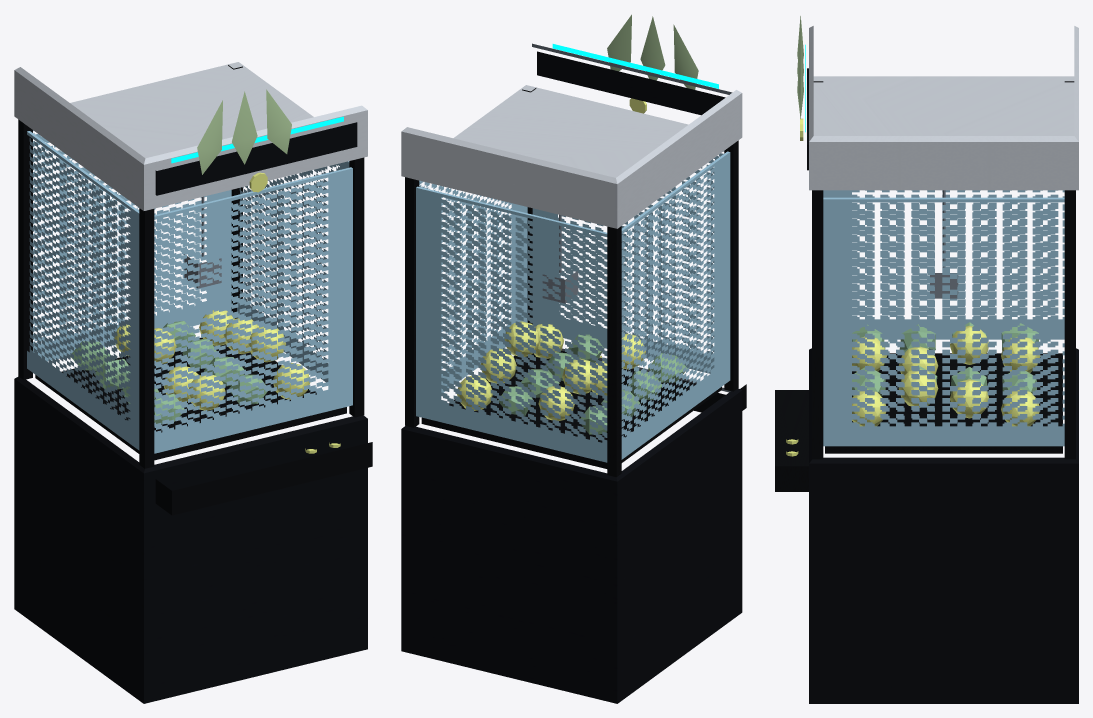
Rendered from tt_arc_claw.glb.
3 views of the same model, side by side, from view 1: azimuth 30°, elevation 25°; view 2: azimuth 150°, elevation 25°; view 3: azimuth 270°, elevation 25° (orthographic). The views are drawn at different scales.
Visible parts, largest first — view 1: Claw_Base, Claw_Pane_Scissor, Claw_Top, Claw_Posts, Claw_Controls, Screen_Plate, Claw_Prize_Floor, Prizes_Balls, Prizes_Leafy, Scr_Leaf, Scr_Art; view 2: Claw_Base, Claw_Pane_Scissor, Claw_Top, Claw_Posts, Claw_Prize_Floor, Screen_Plate, Prizes_Balls, Prizes_Leafy, Scr_Leaf, Scr_Art, Claw_Top_Reveal, Claw_Head; view 3: Claw_Base, Claw_Pane_Scissor, Claw_Top, Claw_Posts, Claw_Prize_Floor, Prizes_Balls, Claw_Controls, Prizes_Leafy, Scr_Leaf.
Part boxes in pixels (<box>): Claw_Base: <box>14,376,367,703</box>; Claw_Pane_Scissor: <box>27,130,352,453</box>; Claw_Top: <box>14,62,367,210</box>; Claw_Posts: <box>18,65,364,468</box>; Claw_Controls: <box>155,442,372,515</box>; Screen_Plate: <box>155,122,357,195</box>; Claw_Prize_Floor: <box>35,337,346,460</box>; Prizes_Balls: <box>114,310,310,410</box>; Prizes_Leafy: <box>71,321,267,424</box>; Scr_Leaf: <box>197,89,291,174</box>; Scr_Art: <box>171,116,343,163</box>; Claw_Base: <box>401,388,742,703</box>; Claw_Pane_Scissor: <box>416,151,730,462</box>; Claw_Top: <box>401,85,742,228</box>; Claw_Posts: <box>405,88,738,477</box>; Claw_Prize_Floor: <box>421,350,721,468</box>; Screen_Plate: <box>537,51,725,115</box>; Prizes_Balls: <box>457,321,645,420</box>; Prizes_Leafy: <box>498,334,687,434</box>; Scr_Leaf: <box>607,14,698,89</box>; Scr_Art: <box>552,44,718,88</box>; Claw_Top_Reveal: <box>532,43,732,94</box>; Claw_Head: <box>542,271,578,303</box>; Claw_Base: <box>809,348,1078,703</box>; Claw_Pane_Scissor: <box>823,190,1064,446</box>; Claw_Top: <box>809,26,1078,190</box>; Claw_Posts: <box>812,81,1075,459</box>; Claw_Prize_Floor: <box>825,353,1062,453</box>; Prizes_Balls: <box>852,325,1040,426</box>; Claw_Controls: <box>775,390,808,491</box>; Prizes_Leafy: <box>852,322,1038,396</box>; Scr_Leaf: <box>797,16,803,118</box>.
Size of what is drawn, in the model's own units: 0.95 by 2.4 by 1.07.
10 materials, 6 textured.
